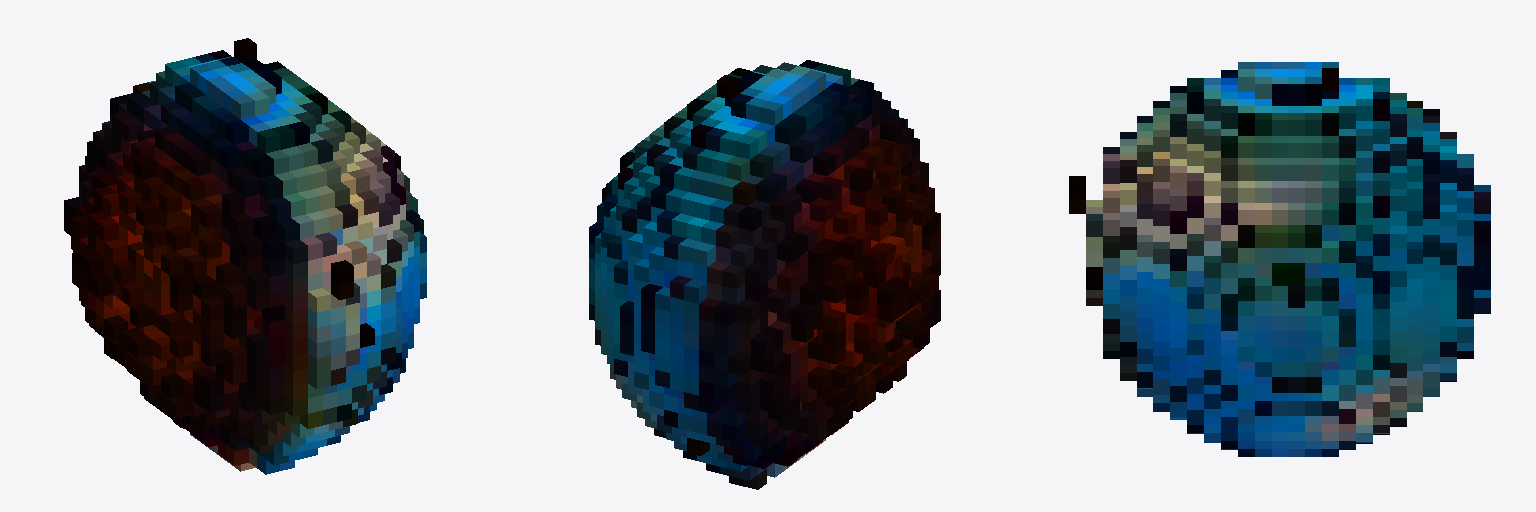
The model's file is regen_iter_10.obj.
3 views of the same model, side by side, from view 1: azimuth 30°, elevation 25°; view 2: azimuth 150°, elevation 25°; view 3: azimuth 270°, elevation 25° (orthographic).
Visible parts, largest first — view 1: regen_iter_10; view 2: regen_iter_10; view 3: regen_iter_10.
Part boxes in pixels (left/top/right/bottom): regen_iter_10: left=64, top=38, right=426, bottom=474; regen_iter_10: left=589, top=60, right=940, bottom=489; regen_iter_10: left=1069, top=62, right=1490, bottom=456.
Bounding box in the file's own units: 2.1 × 2.5 × 2.5.